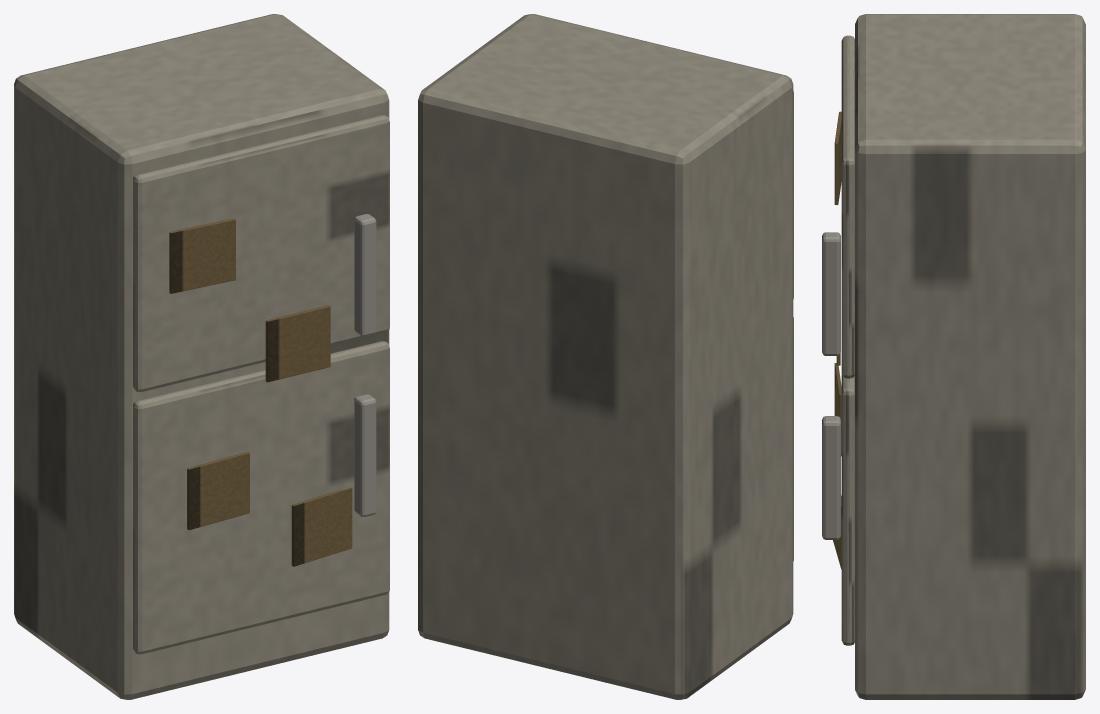
File: basement-fridge.glb
3 renders of one model, left to right at view 1: azimuth 30°, elevation 25°; view 2: azimuth 150°, elevation 25°; view 3: azimuth 270°, elevation 25°, orthographic.
Parts seen in each view (by area): view 1: SM_lonely_basement_fridge_Metal_DirtyEnamel, SM_lonely_basement_fridge_Paper_Aged, SM_lonely_basement_fridge_Metal_DullChrome; view 2: SM_lonely_basement_fridge_Metal_DirtyEnamel; view 3: SM_lonely_basement_fridge_Metal_DirtyEnamel, SM_lonely_basement_fridge_Metal_DullChrome, SM_lonely_basement_fridge_Paper_Aged.
Part boxes in pixels (x1=…): SM_lonely_basement_fridge_Metal_DirtyEnamel: x1=14, y1=14, x2=389, y2=699; SM_lonely_basement_fridge_Paper_Aged: x1=169, y1=218, x2=352, y2=566; SM_lonely_basement_fridge_Metal_DullChrome: x1=354, y1=214, x2=376, y2=517; SM_lonely_basement_fridge_Metal_DirtyEnamel: x1=418, y1=14, x2=793, y2=699; SM_lonely_basement_fridge_Metal_DirtyEnamel: x1=841, y1=14, x2=1085, y2=699; SM_lonely_basement_fridge_Metal_DullChrome: x1=822, y1=232, x2=840, y2=539; SM_lonely_basement_fridge_Paper_Aged: x1=833, y1=111, x2=841, y2=569.
Bounding box in the file's own units: 1.02 × 1.98 × 0.845.
Materials: 3 (2 with a texture image).
